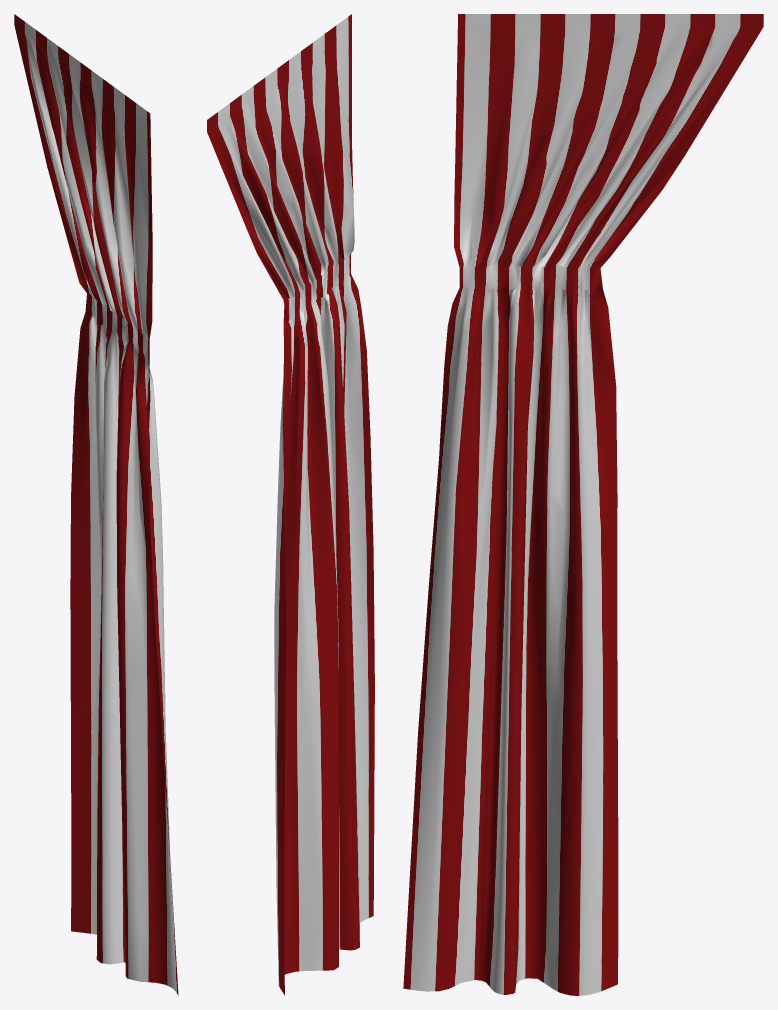
Rendered from right.FBX.
The picture shows the model from 3 angles, left to right: view 1: azimuth 30°, elevation 25°; view 2: azimuth 150°, elevation 25°; view 3: azimuth 270°, elevation 25°; orthographic projection. The views are drawn at different scales.
Visible parts, largest first — view 1: right; view 2: right; view 3: right.
Part boxes in pixels (x1,y1,x2,y2): right: (14,14,178,995); right: (207,14,374,995); right: (403,14,763,995).
Size of the model in its own units: 13.82 by 330 by 111.
